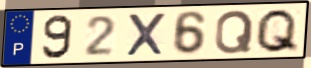2: (83, 15, 120, 58)
6: (171, 9, 207, 57)
9: (41, 14, 74, 61)
Q: (253, 7, 300, 55), (212, 9, 255, 56)
X: (124, 11, 168, 58)
